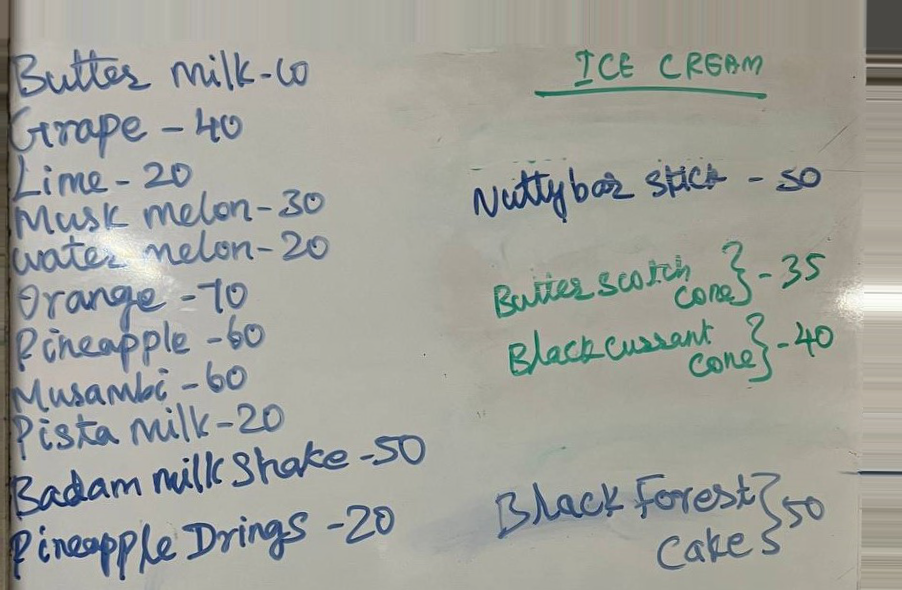badam milkshake - 50: (11, 451, 431, 507)
black current cone - 40: (504, 314, 836, 388)
black forest cake - 50: (492, 470, 836, 571)
butter milk - 10: (9, 48, 313, 100)
butterscotch cone - 35: (492, 244, 827, 326)
grape - 40: (4, 102, 249, 155)
lime - 20: (9, 156, 197, 198)
musambi - 60: (12, 361, 250, 414)
musk melon - 30: (12, 195, 328, 235)
nutty bar - 30: (468, 158, 826, 214)
orange - 70: (9, 278, 250, 318)
pineapple - 60: (12, 318, 271, 371)
pineapple drink - 20: (9, 514, 399, 584)
pista milk - 20: (12, 412, 289, 452)
water melon - 20: (12, 233, 333, 277)
